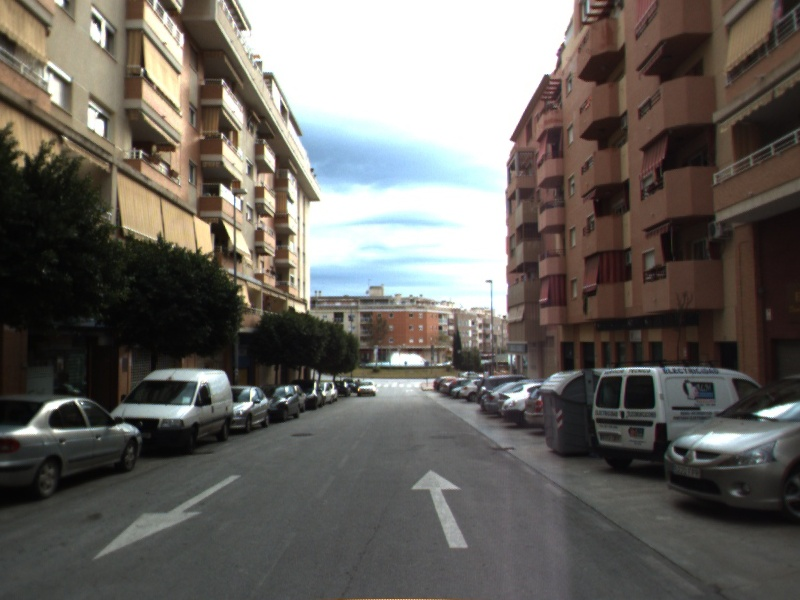STRAIGHT: (409, 468, 471, 550)
